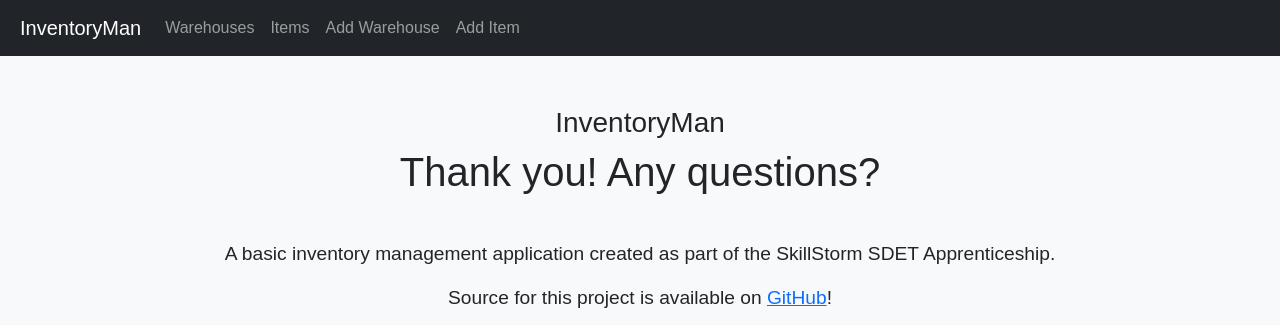
Test case: App component › navigates to the warehouses page when clicked
Click the link "Warehouses": (210, 28) [165,19,254,36]
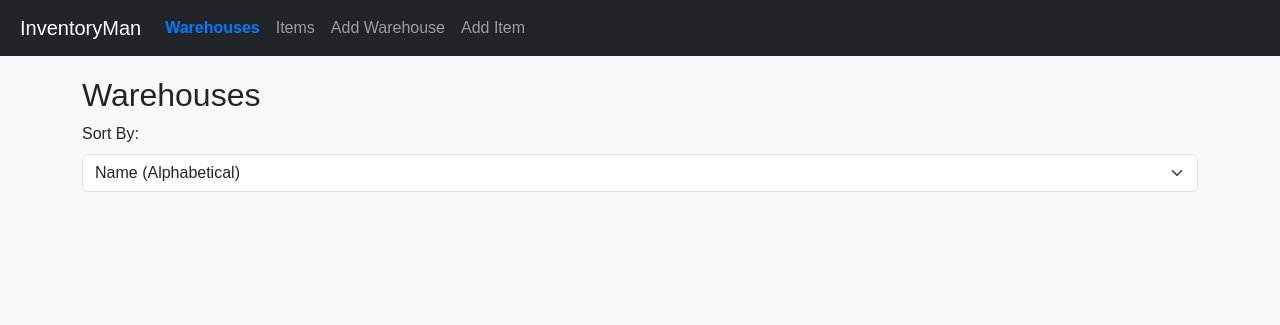
Check: the text "Sort By:" is shown, box [82,122,139,146]
